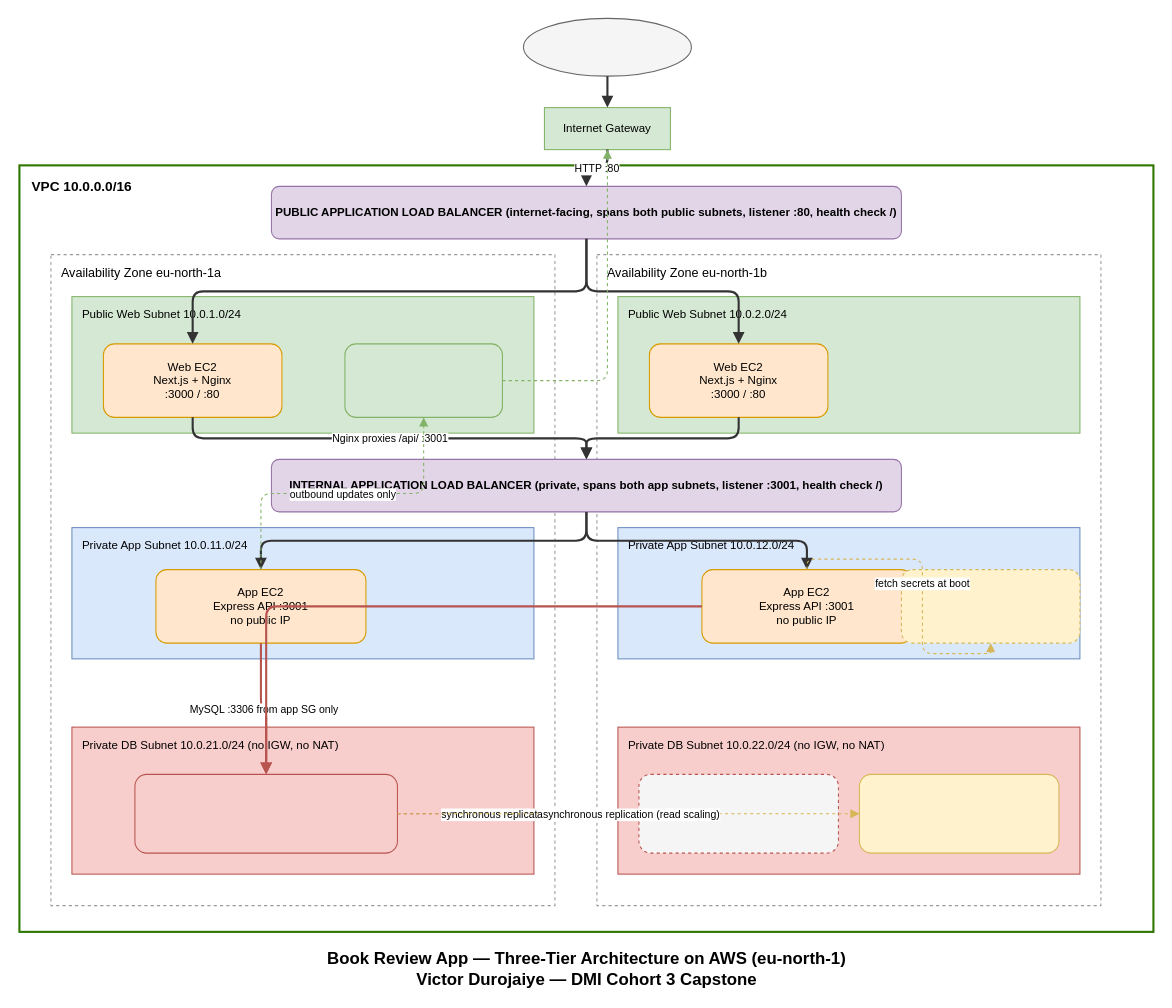
Some shapes in this 1172 by 1008 pixel diagram are drawn without their labels. Each missing label, with the centre of its shape:
Internet (users): [606,46]
Multi-AZ STANDBY failover only not readable: [738,813]
NAT Gateway (outbound only): [423,380]
RDS MySQL 8.0 PRIMARY (writer) publicly_accessible = false: [265,813]
READ REPLICA separate endpoint read scaling: [958,813]
SSM Parameter Store SecureString DB password, JWT secret: [990,606]
